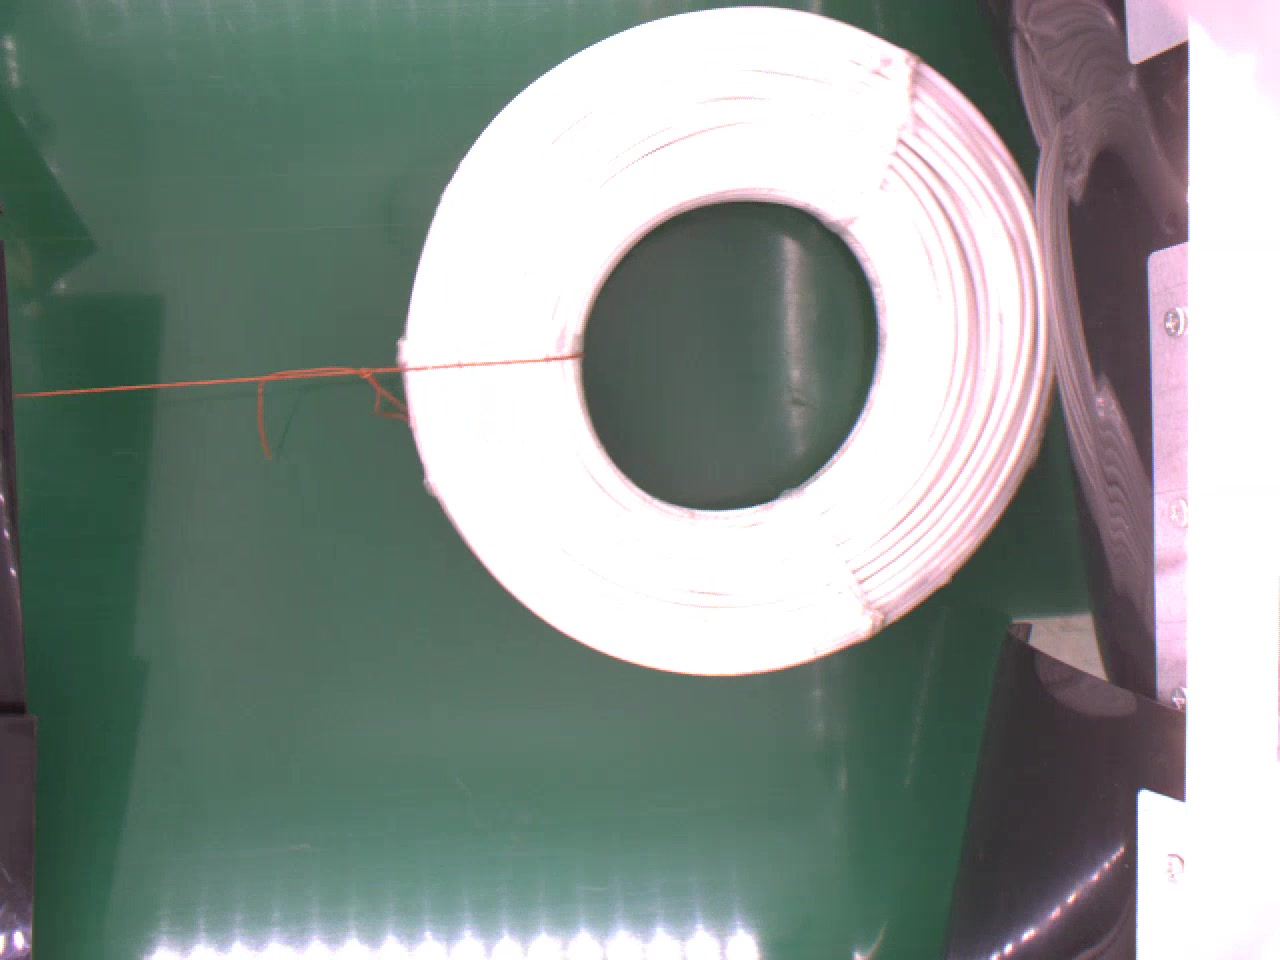white: (399, 6, 1061, 679)
